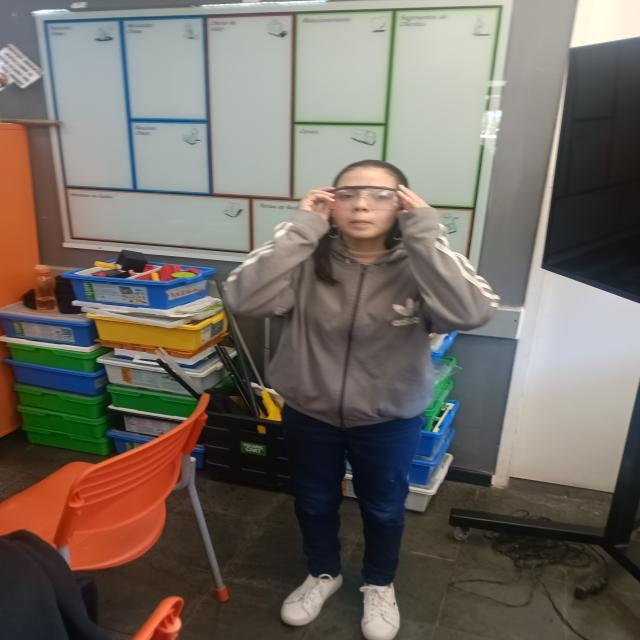oculos-epi: (330, 187, 398, 210)
